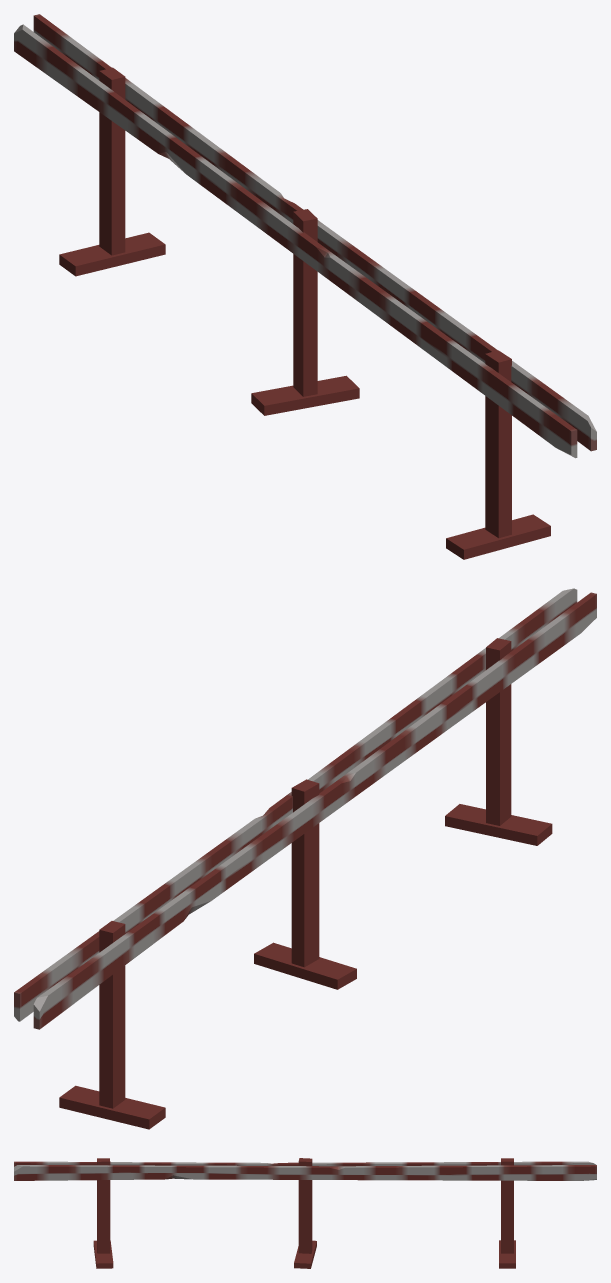
Rendered from SM_Prop_Runway_Barrier_02.glb.
3 renders of one model, top to bottom at view 1: azimuth 30°, elevation 25°; view 2: azimuth 150°, elevation 25°; view 3: azimuth 270°, elevation 25°, orthographic. The views are drawn at different scales.
Visible parts, largest first — view 1: SM_Prop_Runway_Barrier_02; view 2: SM_Prop_Runway_Barrier_02; view 3: SM_Prop_Runway_Barrier_02.
Part boxes in pixels (x1,y1,x2,y2): SM_Prop_Runway_Barrier_02: (14,14,596,559); SM_Prop_Runway_Barrier_02: (14,588,596,1129); SM_Prop_Runway_Barrier_02: (14,1158,596,1268).
Size of the model in its own units: 1.03 by 1.98 by 10.75.
1 material, 1 textured.
